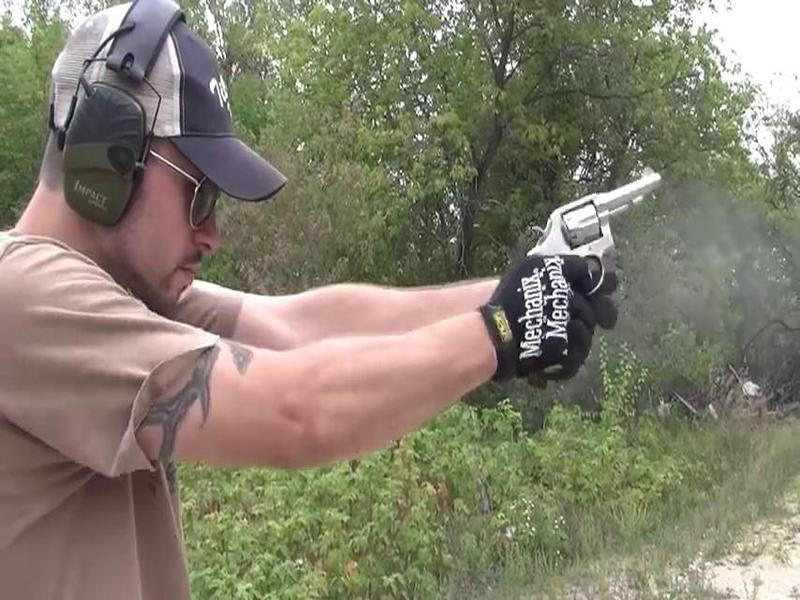Revolver: (497, 149, 676, 308)
